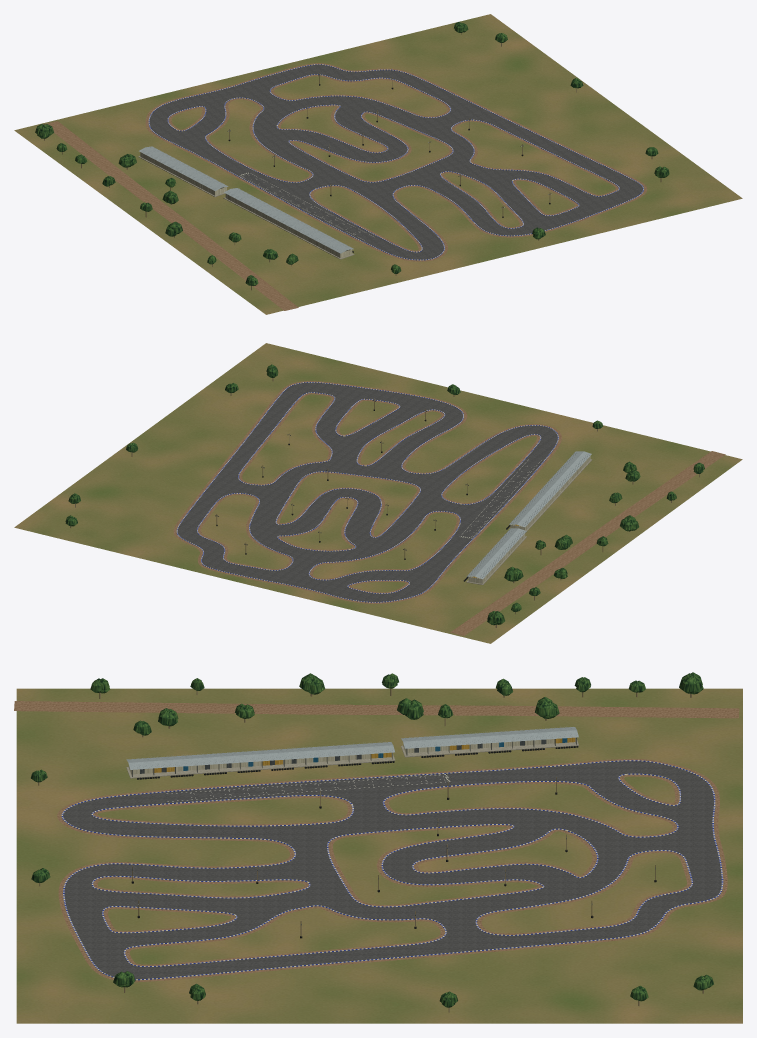
File: velokart.glb
3 renders of one model, top to bottom at view 1: azimuth 30°, elevation 25°; view 2: azimuth 150°, elevation 25°; view 3: azimuth 270°, elevation 25°, orthographic. The views are drawn at different scales.
Parts seen in each view (by area): view 1: Terreno, Pista_asfaltada, Acostamentos_terra, Acesso_terra, Boxes_2_cobertura, Boxes_1_cobertura, Boxes_2_fundo; view 2: Terreno, Pista_asfaltada, Acostamentos_terra, Acesso_terra, Boxes_2_cobertura, Boxes_1_cobertura; view 3: Terreno, Pista_asfaltada, Acostamentos_terra, Acesso_terra, Boxes_2_cobertura, Boxes_1_cobertura, Boxes_2_piso, Boxes_1_piso.
Boxes of the visible parts, left/top/right/bottom form: Terreno: left=14, top=14, right=742, bottom=314; Pista_asfaltada: left=149, top=64, right=642, bottom=259; Acostamentos_terra: left=145, top=63, right=646, bottom=261; Acesso_terra: left=43, top=121, right=298, bottom=310; Boxes_2_cobertura: left=224, top=188, right=353, bottom=253; Boxes_1_cobertura: left=139, top=146, right=228, bottom=191; Boxes_2_fundo: left=225, top=194, right=340, bottom=257; Terreno: left=14, top=343, right=742, bottom=643; Pista_asfaltada: left=177, top=382, right=557, bottom=601; Acostamentos_terra: left=173, top=381, right=561, bottom=603; Acesso_terra: left=450, top=451, right=725, bottom=635; Boxes_2_cobertura: left=509, top=451, right=591, bottom=527; Boxes_1_cobertura: left=467, top=528, right=526, bottom=579; Terreno: left=16, top=688, right=742, bottom=1023; Pista_asfaltada: left=63, top=761, right=721, bottom=979; Acostamentos_terra: left=57, top=758, right=727, bottom=982; Acesso_terra: left=14, top=701, right=739, bottom=718; Boxes_2_cobertura: left=126, top=742, right=394, bottom=769; Boxes_1_cobertura: left=401, top=727, right=578, bottom=748; Boxes_2_piso: left=126, top=754, right=395, bottom=778; Boxes_1_piso: left=401, top=739, right=578, bottom=757.
Bounding box in the file's own units: 334 × 11.17 × 307.
15 materials, 15 textured.
